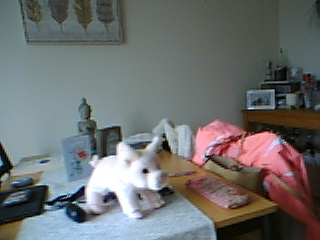piggy: (83, 136, 169, 220)
